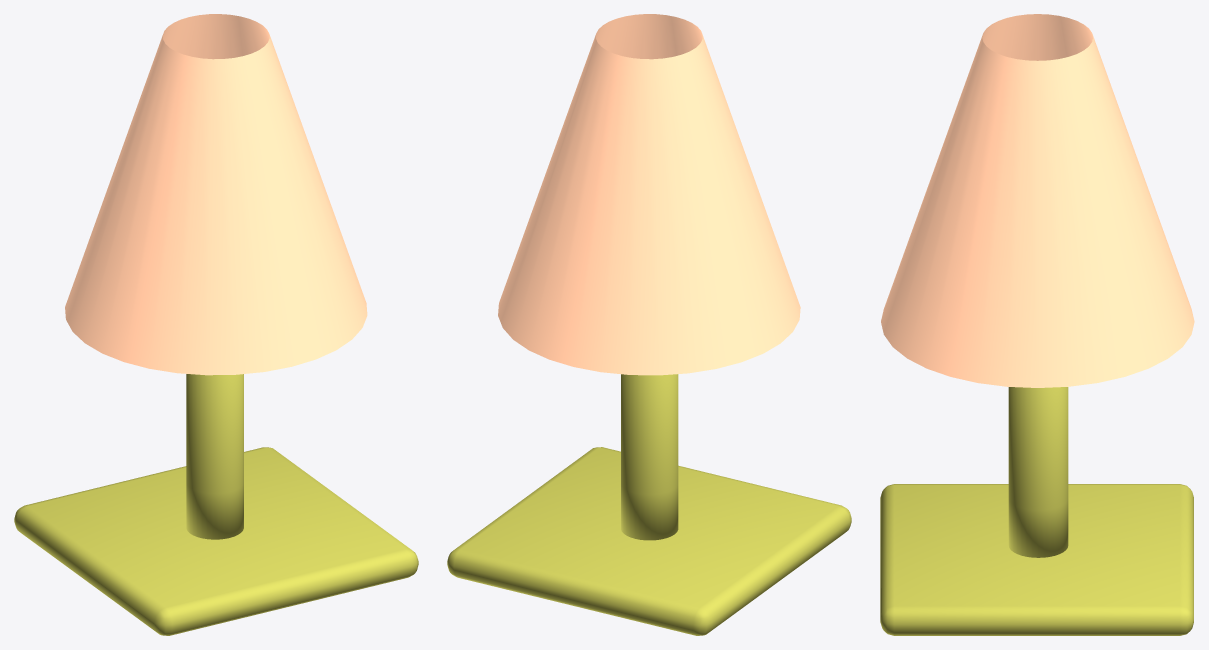
3 renders of one model, left to right at view 1: azimuth 30°, elevation 25°; view 2: azimuth 150°, elevation 25°; view 3: azimuth 270°, elevation 25°, orthographic. The views are drawn at different scales.
Parts seen in each view (by area): view 1: Cylinder.001, Cube, Cylinder; view 2: Cylinder.001, Cube, Cylinder; view 3: Cylinder.001, Cube, Cylinder.
Part boxes in pixels (box(x1,y1,x2,y2)): Cylinder.001: box(65, 14, 367, 375); Cube: box(14, 447, 418, 635); Cylinder: box(186, 374, 243, 539); Cylinder.001: box(498, 14, 800, 375); Cube: box(447, 447, 851, 635); Cylinder: box(621, 374, 678, 540); Cylinder.001: box(881, 14, 1194, 387); Cube: box(880, 484, 1193, 635); Cylinder: box(1008, 387, 1068, 557).
Size of the model in its own units: 2 by 3.78 by 2.
